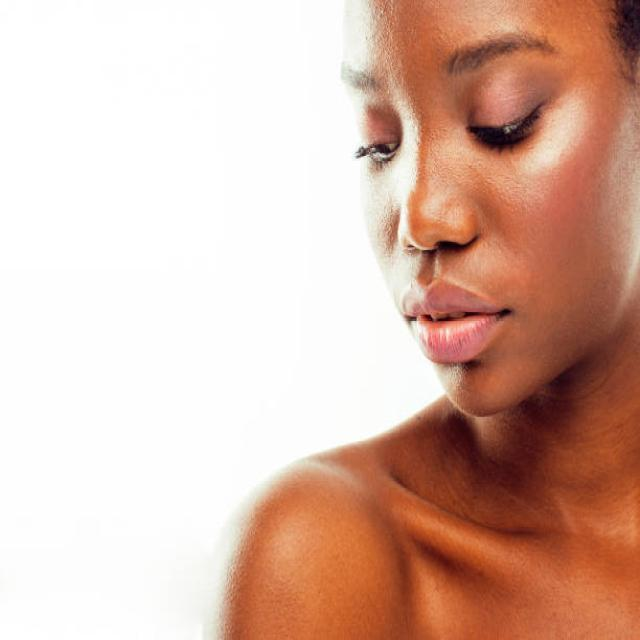Dry-Skin: (356, 168, 462, 324), (512, 150, 634, 270), (328, 0, 407, 118)
